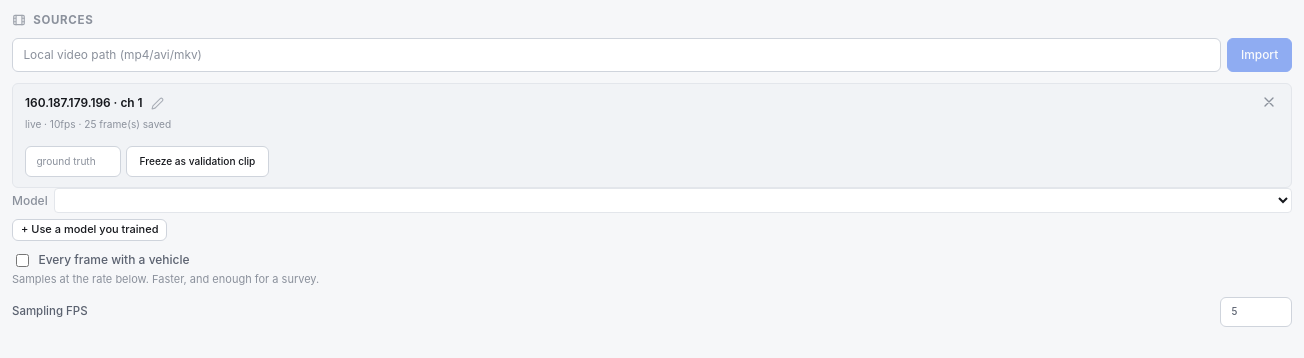
Test case: naming a source › Escape leaves the name as it was
This screenshot has width=1304, height=358.
Step 1. Click the button named "rename 160.187" → {"x": 158, "y": 103}, box [148,95,168,112]
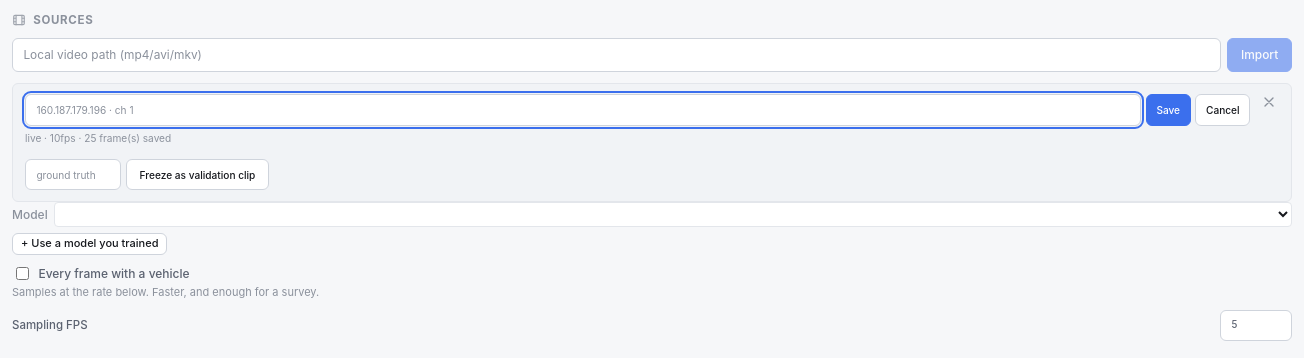
Step 2. Press Escape in the field named "name for", box [25,94,1141,126]
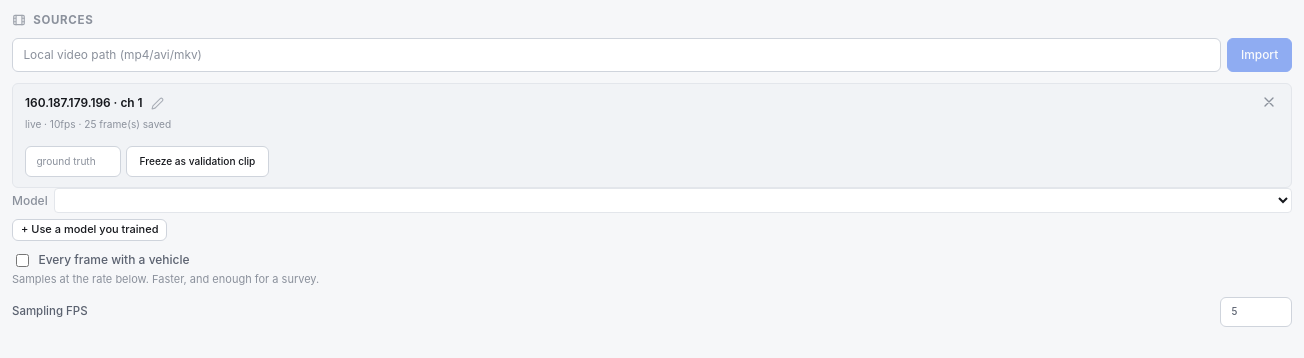
Expected: the button "160.187.179.196 · ch 1" is shown, [25,94,143,112]
